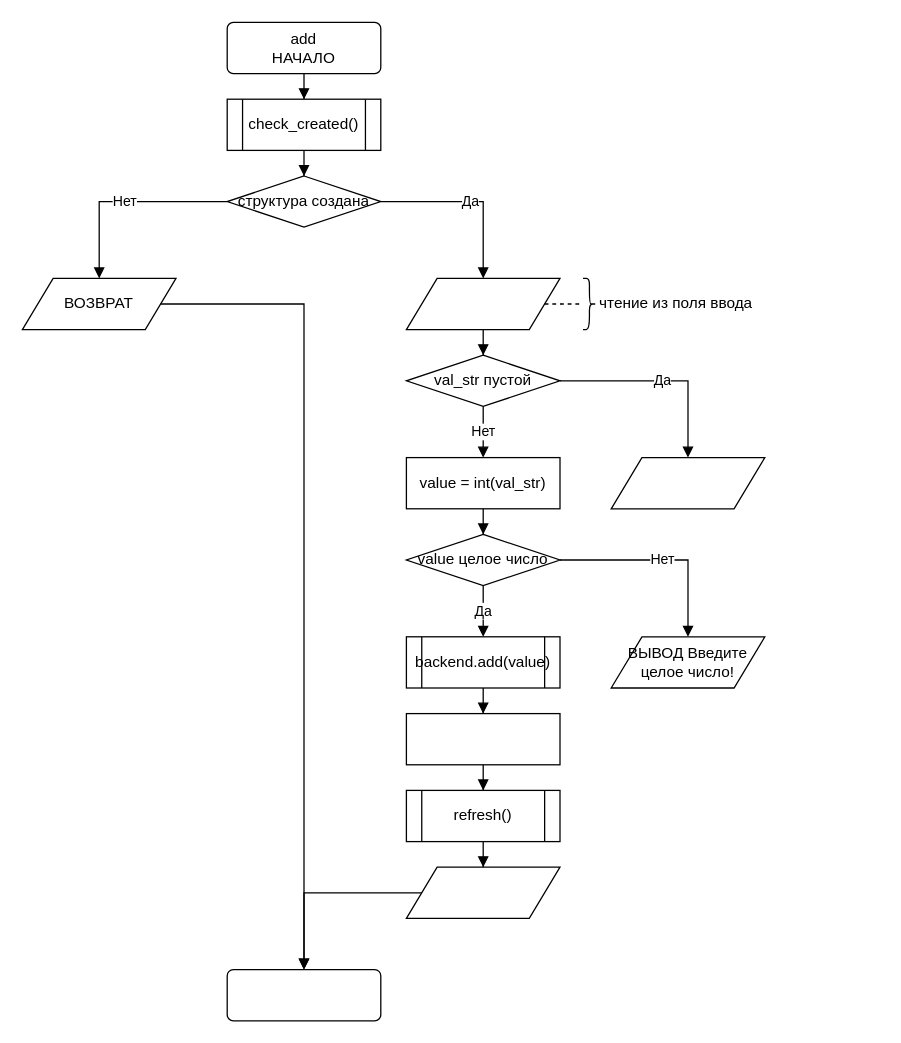
Image size: 901x1043. Some labels were removed from this diagram. The centre of each missing label's shape, as x and y in pixels:
"val_str" goes at [482,303].
"ВЫВОД в log Добавлен value" goes at [482,892].
"ВЫВОД Введите число!" goes at [687,482].
"КОНЕЦ add" goes at [303,994].
"Очистить поле ввода" goes at [482,738].
